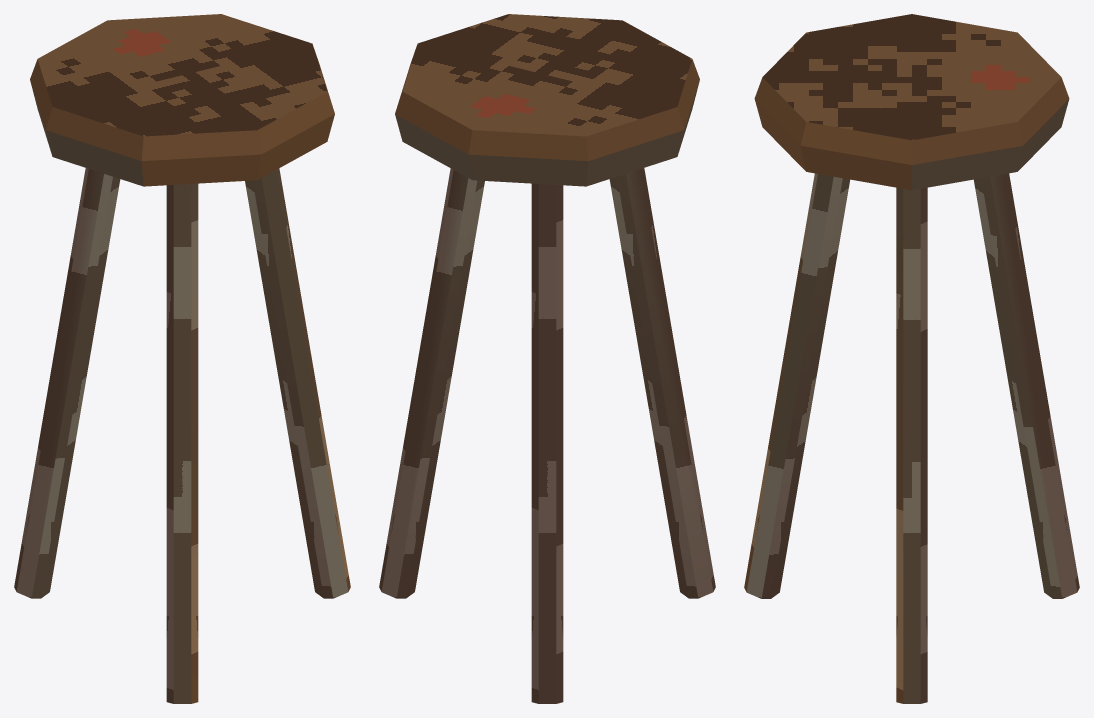
Rendered from wprop.chair__stool.glb.
The picture shows the model from 3 angles, left to right: view 1: azimuth 30°, elevation 25°; view 2: azimuth 150°, elevation 25°; view 3: azimuth 270°, elevation 25°; orthographic projection.
Visible parts, largest first — view 1: kit_legs, kit_seat; view 2: kit_legs, kit_seat; view 3: kit_legs, kit_seat.
Boxes of the visible parts, bbox=[...] form: kit_legs: bbox=[14, 168, 350, 703]; kit_seat: bbox=[30, 14, 334, 186]; kit_legs: bbox=[379, 168, 715, 703]; kit_seat: bbox=[395, 14, 699, 186]; kit_legs: bbox=[744, 173, 1079, 703]; kit_seat: bbox=[754, 14, 1069, 190].
Size of the model in its own units: 0.4397 by 0.7734 by 0.4264.
Materials: 2 (2 with a texture image).
